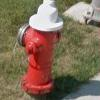Hydrant: (11, 2, 70, 99)
